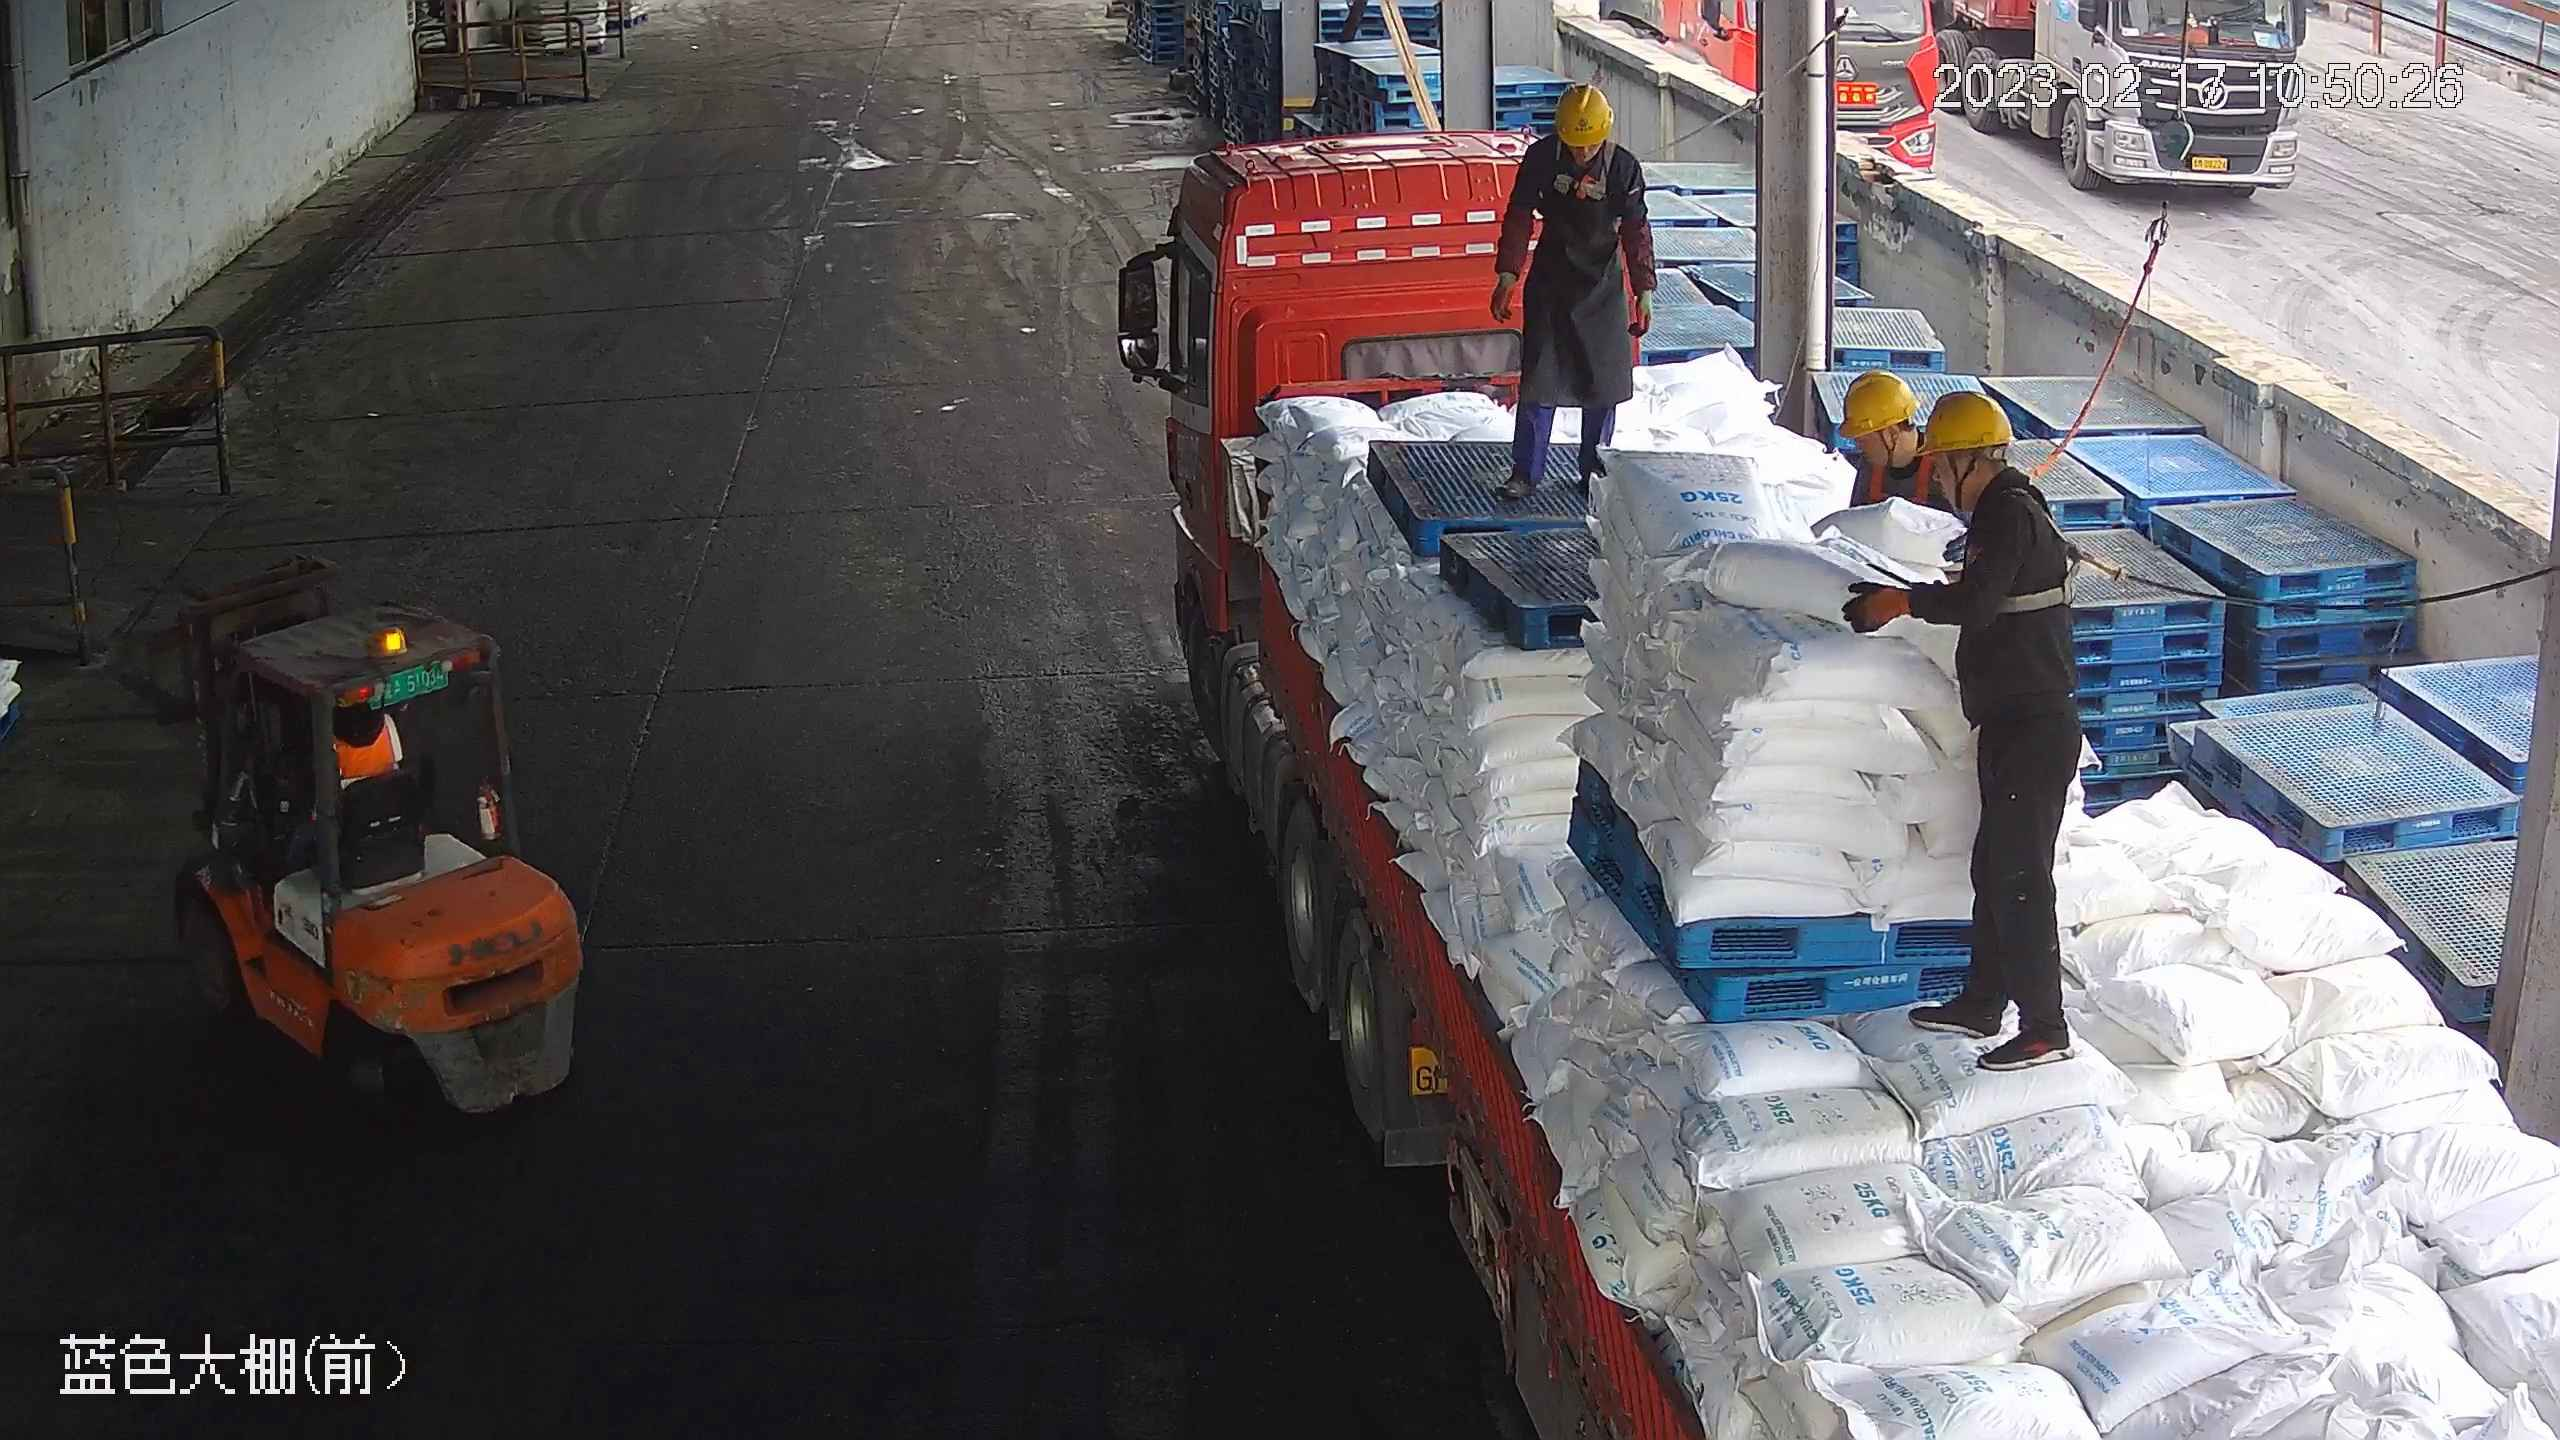belt: (1959, 469, 2090, 618), (1546, 135, 1621, 205)
head: (1912, 385, 2062, 550), (1505, 79, 1648, 213)
helmet: (1915, 387, 2017, 457), (1836, 368, 1924, 435), (1552, 77, 1614, 149)
people: (1845, 383, 2092, 1073), (1490, 77, 1656, 496)
truck: (1099, 104, 2559, 1439), (1938, 1, 2310, 210), (1597, 1, 1938, 180)
